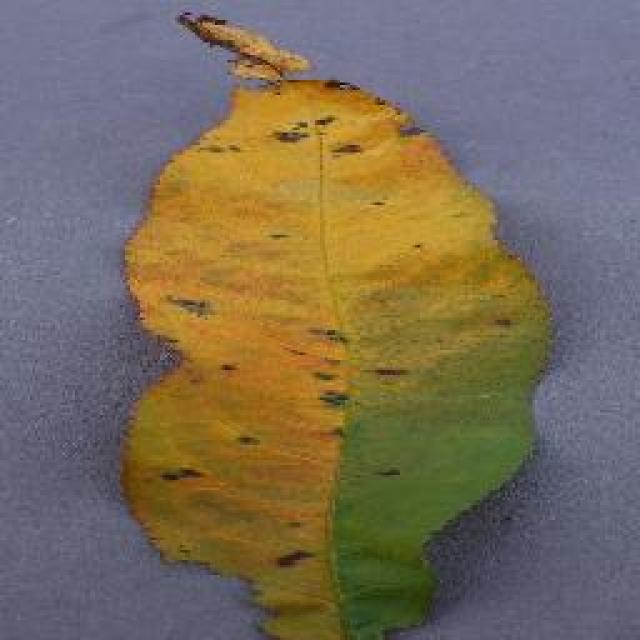Bacterial_spot: (114, 4, 574, 640)
